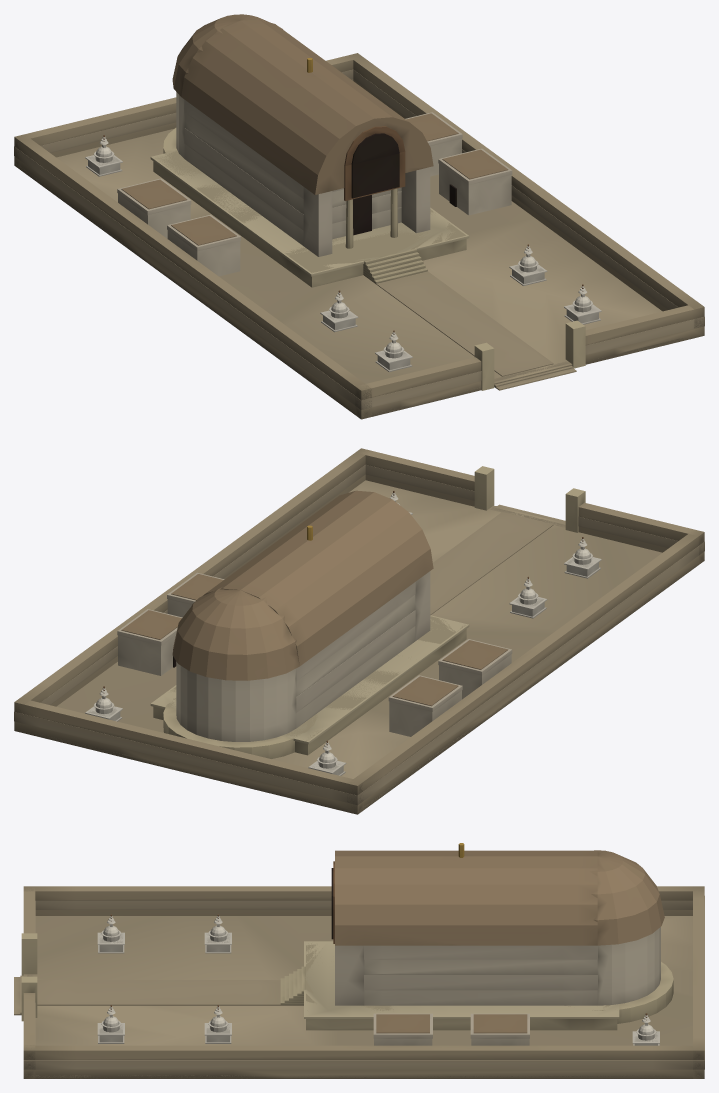
File: apsidal-temple.glb
The picture shows the model from 3 angles, top to bottom: view 1: azimuth 30°, elevation 25°; view 2: azimuth 150°, elevation 25°; view 3: azimuth 270°, elevation 25°; orthographic projection.
Parts seen in each view (by area): view 1: p0_court, p2_roof, p1_temple, p3_court shrines; view 2: p0_court, p2_roof, p1_temple, p3_court shrines; view 3: p0_court, p2_roof, p1_temple, p3_court shrines.
Boxes of the visible parts, x1,y1,x2,y2 form: p0_court: (14, 53, 704, 419); p2_roof: (172, 14, 433, 200); p1_temple: (150, 92, 469, 287); p3_court shrines: (85, 112, 601, 371); p0_court: (14, 448, 704, 814); p2_roof: (172, 490, 433, 680); p1_temple: (150, 571, 469, 758); p3_court shrines: (85, 491, 601, 775); p0_court: (14, 886, 704, 1078); p2_roof: (331, 843, 664, 945); p1_temple: (280, 927, 673, 1030); p3_court shrines: (97, 914, 659, 1045).
Bounding box in the file's own units: 40.04 × 17.3 × 71.02.
